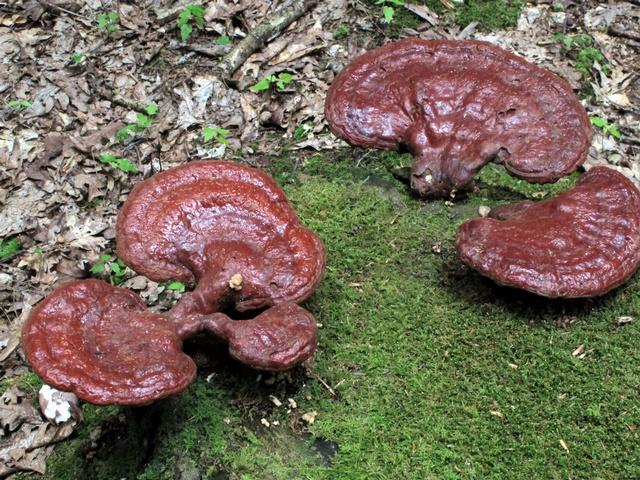Non-edible Mushroom: (19, 157, 324, 406), (323, 36, 593, 199), (453, 164, 638, 299)
